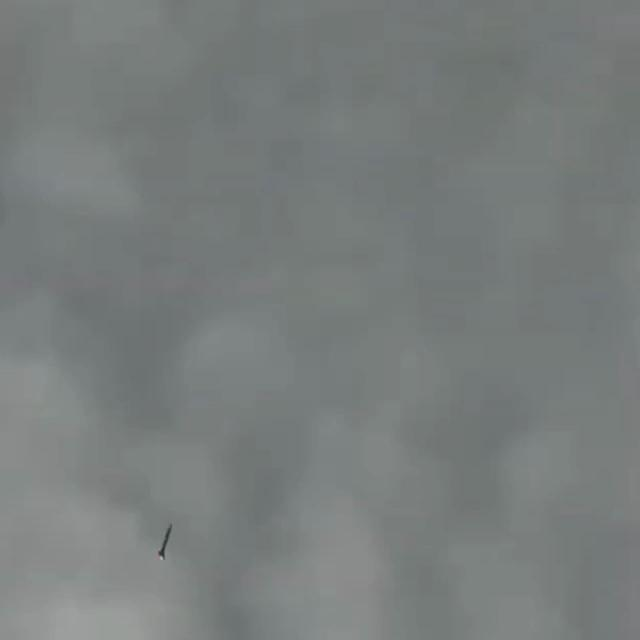rocket: (157, 524, 174, 560)
